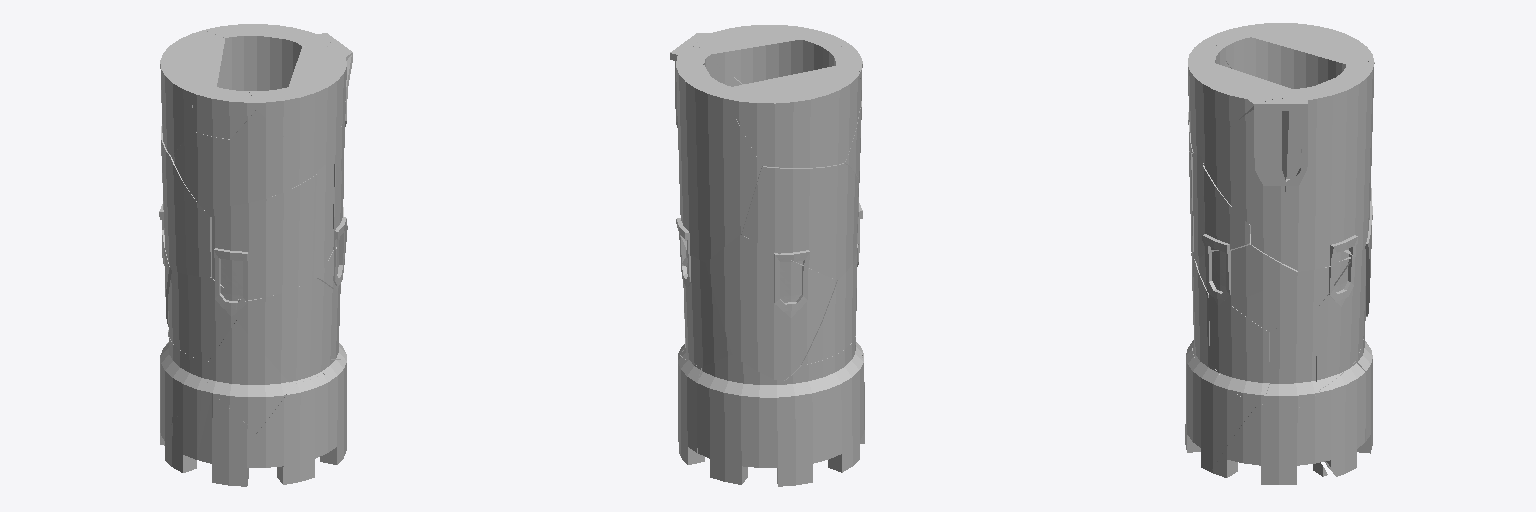
The model's file is destruction_tower_000007.obj.
3 views of the same model, side by side, from view 1: azimuth 30°, elevation 25°; view 2: azimuth 150°, elevation 25°; view 3: azimuth 270°, elevation 25° (orthographic).
Visible parts, largest first — view 1: tower.001_cell.024_Mesh.024, tower.001_cell.028_Mesh.028, tower.001_cell.021_Mesh.021, tower.001_cell.006_Mesh.006, tower.001_cell.011_Mesh.011, tower.001_cell.013_Mesh.013, tower.001_cell.002_Mesh.002, tower.001_cell.015_Mesh.015, tower.001_cell.009_Mesh.009, tower.001_cell.017_Mesh.017, tower.001_cell.003_Mesh.003, tower.001_cell.014_Mesh.014 (+9 smaller); view 2: tower.001_cell.025_Mesh.025, tower.001_cell.017_Mesh.017, tower.001_cell.007_Mesh.007, tower.001_cell.015_Mesh.015, tower.001_cell.003_Mesh.003, tower.001_cell.028_Mesh.028, tower.001_cell.005_Mesh.005, tower.001_cell.012_Mesh.012, tower.001_cell.009_Mesh.009, tower.001_cell.029_Mesh.029, tower.001_cell.006_Mesh.006, tower.001_cell.026_Mesh.026 (+2 smaller); view 3: tower.001_cell.017_Mesh.017, tower.001_cell.020_Mesh.020, tower.001_cell.015_Mesh.015, tower.001_cell.028_Mesh.028, tower.001_cell.030_Mesh.030, tower.001_cell.029_Mesh.029, tower.001_cell_Mesh, tower.001_cell.012_Mesh.012, tower.001_cell.016_Mesh.016, tower.001_cell.023_Mesh.023, tower.001_cell.026_Mesh.026, tower.001_cell.027_Mesh.027 (+8 smaller).
Part boxes in pixels (x1,y1,x2,y2): tower.001_cell.024_Mesh.024: (212, 174, 316, 301); tower.001_cell.028_Mesh.028: (249, 46, 352, 170); tower.001_cell.021_Mesh.021: (237, 279, 333, 383); tower.001_cell.006_Mesh.006: (164, 388, 255, 486); tower.001_cell.011_Mesh.011: (256, 374, 329, 484); tower.001_cell.013_Mesh.013: (207, 320, 290, 432); tower.001_cell.002_Mesh.002: (230, 110, 317, 205); tower.001_cell.015_Mesh.015: (160, 30, 224, 156); tower.001_cell.009_Mesh.009: (168, 270, 236, 361); tower.001_cell.017_Mesh.017: (205, 24, 311, 90); tower.001_cell.003_Mesh.003: (159, 126, 211, 276); tower.001_cell.014_Mesh.014: (172, 131, 229, 216); tower.001_cell.025_Mesh.025: (706, 235, 836, 381); tower.001_cell.017_Mesh.017: (676, 58, 762, 262); tower.001_cell.007_Mesh.007: (697, 355, 814, 486); tower.001_cell.015_Mesh.015: (726, 66, 860, 167); tower.001_cell.003_Mesh.003: (742, 163, 858, 279); tower.001_cell.028_Mesh.028: (696, 25, 847, 84); tower.001_cell.005_Mesh.005: (784, 336, 863, 462); tower.001_cell.012_Mesh.012: (680, 254, 732, 367); tower.001_cell.009_Mesh.009: (801, 244, 859, 364); tower.001_cell.029_Mesh.029: (678, 355, 701, 464); tower.001_cell.006_Mesh.006: (828, 355, 864, 472); tower.001_cell.026_Mesh.026: (670, 46, 720, 127); tower.001_cell.017_Mesh.017: (1315, 61, 1374, 256); tower.001_cell.020_Mesh.020: (1201, 97, 1288, 225); tower.001_cell.015_Mesh.015: (1251, 23, 1373, 88); tower.001_cell.028_Mesh.028: (1188, 44, 1290, 155); tower.001_cell.030_Mesh.030: (1211, 404, 1326, 484); tower.001_cell.029_Mesh.029: (1297, 361, 1365, 476); tower.001_cell_Mesh: (1209, 295, 1269, 404); tower.001_cell.012_Mesh.012: (1317, 247, 1365, 388); tower.001_cell.016_Mesh.016: (1266, 307, 1319, 409); tower.001_cell.023_Mesh.023: (1195, 364, 1256, 471); tower.001_cell.026_Mesh.026: (1281, 86, 1314, 225); tower.001_cell.027_Mesh.027: (1228, 258, 1352, 331).
Size of the model in its own units: 44.49 by 97.34 by 43.28.